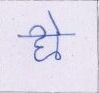e_matra: (45, 10, 65, 33)
